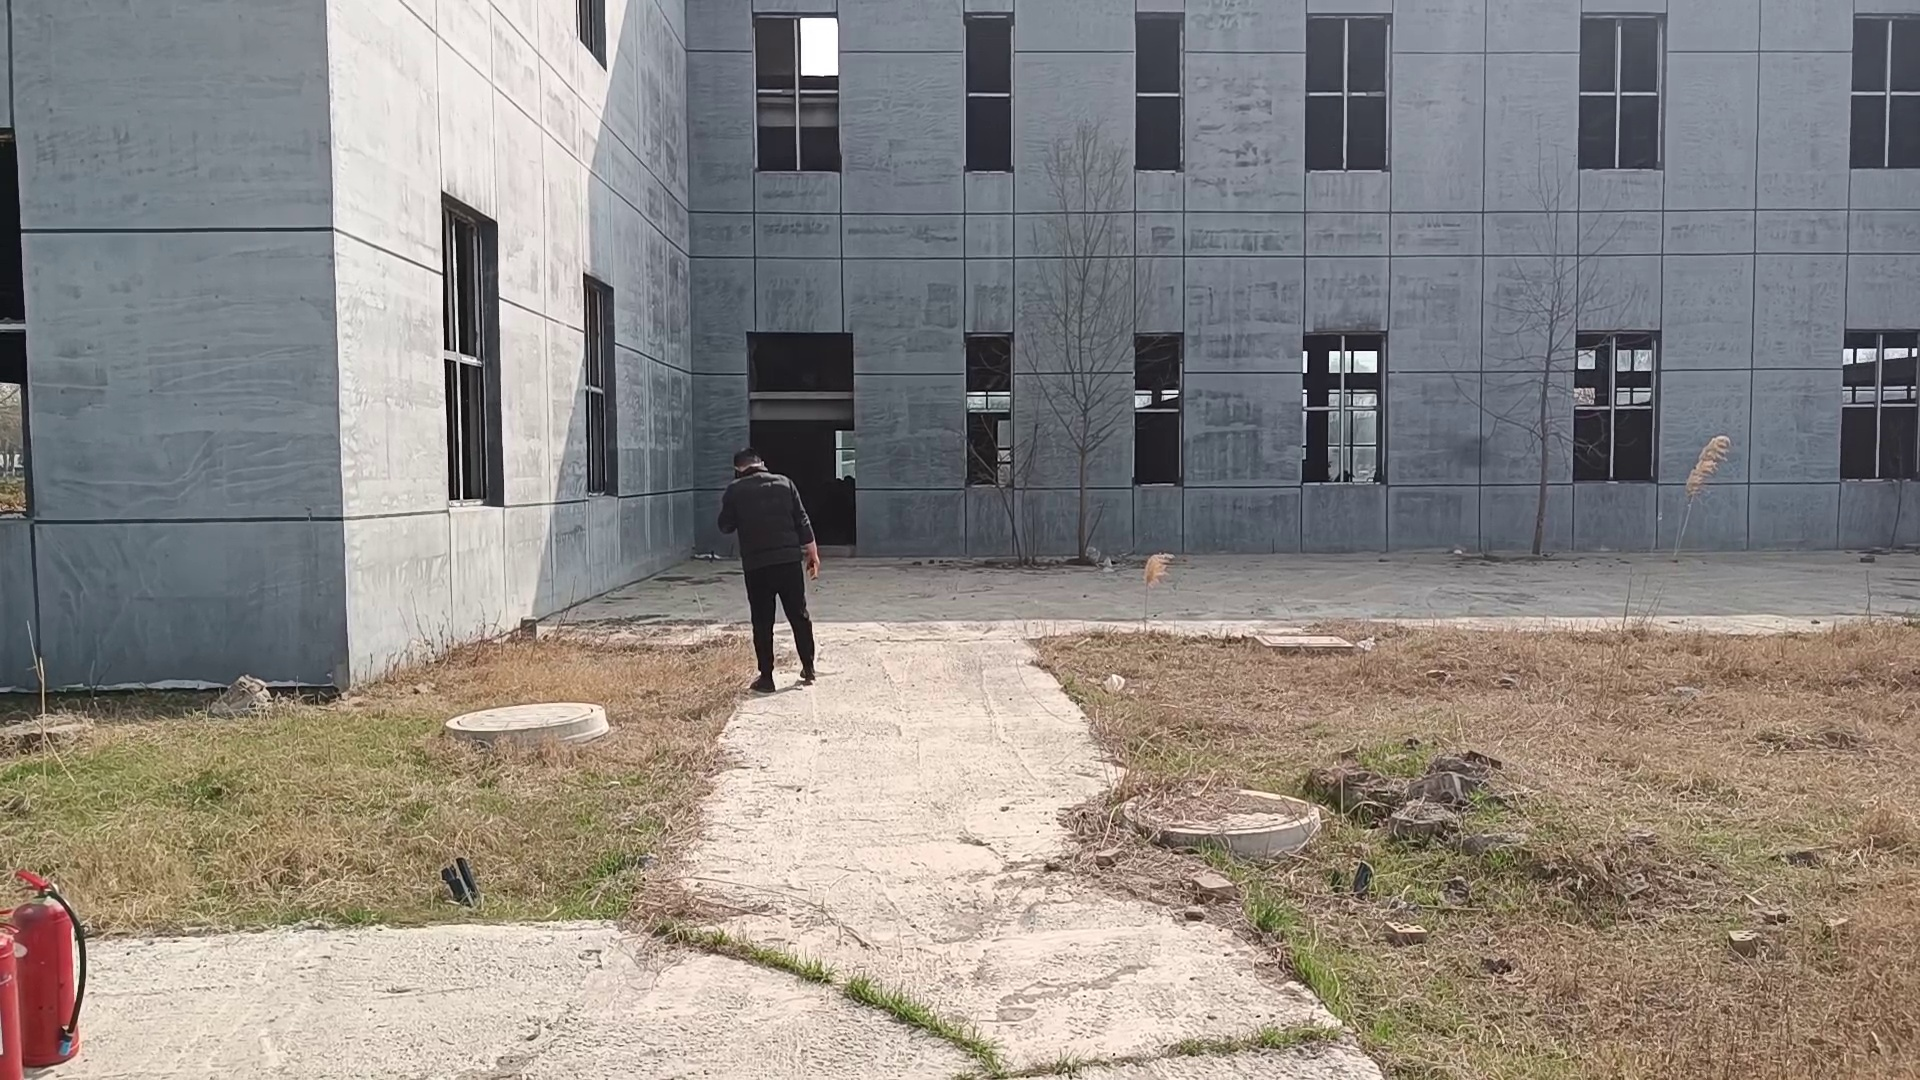phone: (719, 446, 771, 497)
